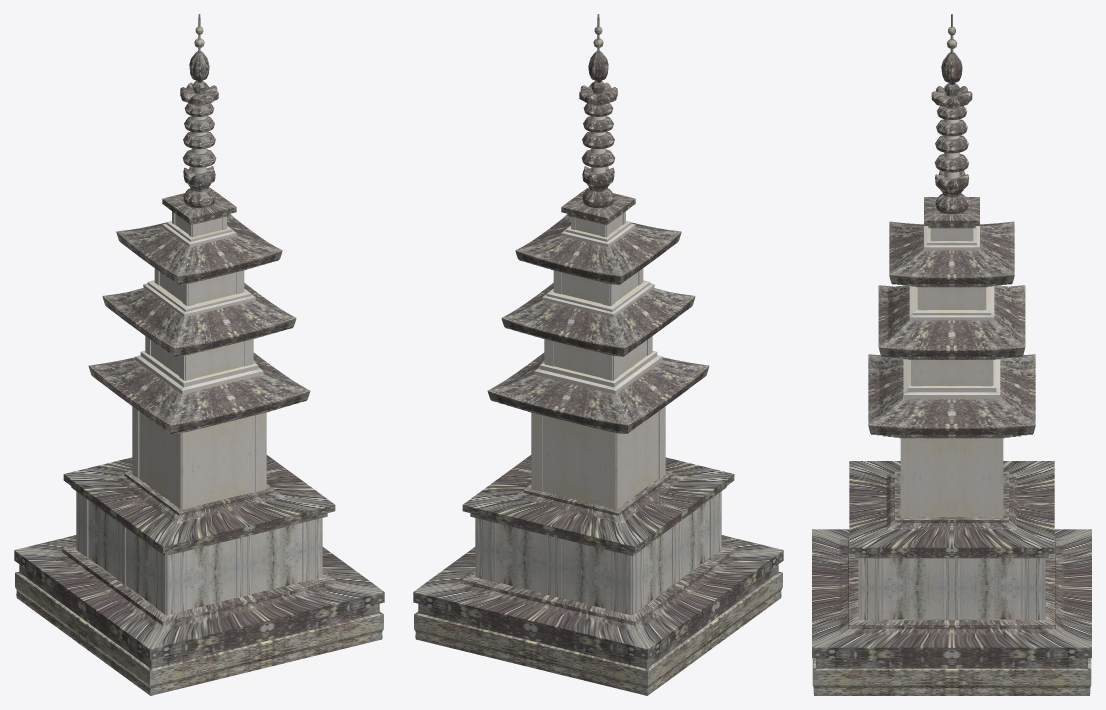
The model's file is bulguksa-seokgatap.glb.
The picture shows the model from 3 angles, left to right: view 1: azimuth 30°, elevation 25°; view 2: azimuth 150°, elevation 25°; view 3: azimuth 270°, elevation 25°; orthographic projection. The views are drawn at different scales.
Parts seen in each view (by area): view 1: Seokgatap; view 2: Seokgatap; view 3: Seokgatap.
Boxes of the visible parts, x1,y1,x2,y2 form: Seokgatap: (14, 14, 384, 695); Seokgatap: (413, 14, 783, 695); Seokgatap: (812, 14, 1091, 695).
Size of the model in its own units: 4.37 by 10.75 by 4.37.
1 material, 1 textured.
